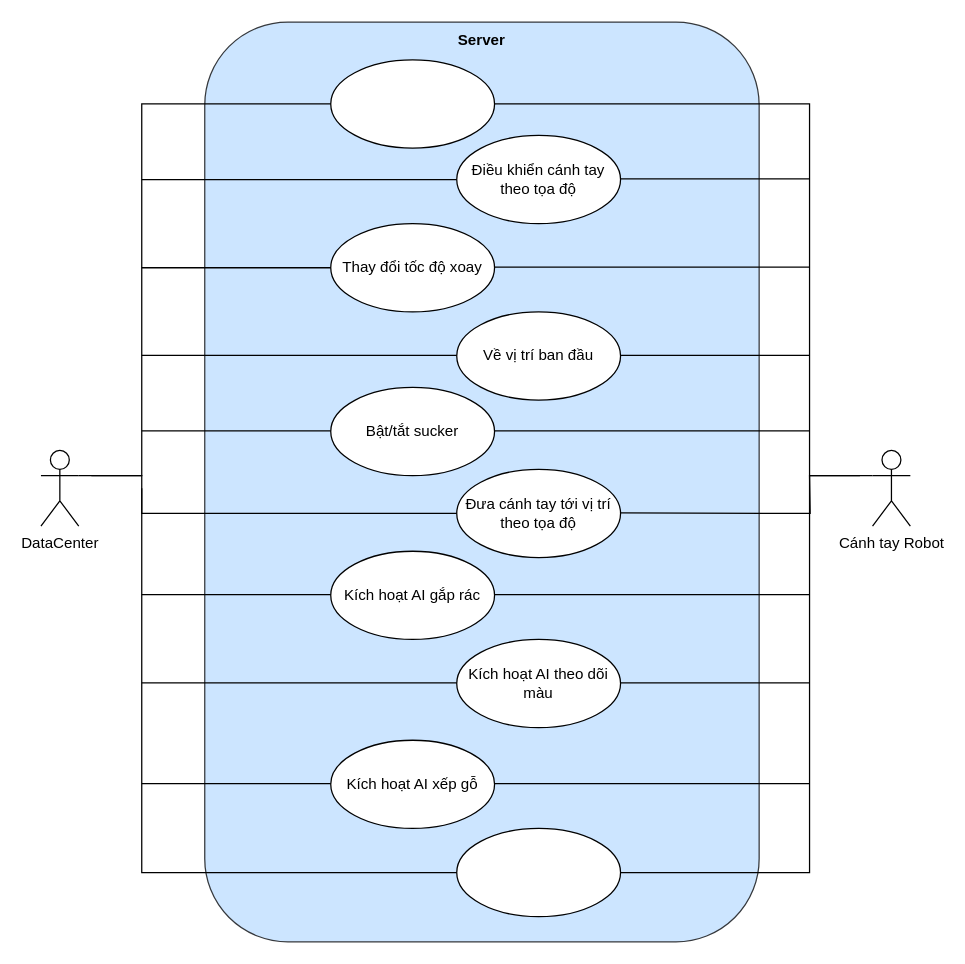
Some shapes in this 965 by 964 pixel diagram are drawn without their labels. The shapes that lost their labels are listed below. From the top down, each one's box as (x1, y1, x2, y2) in pixels, then its label:
(329, 59, 495, 148): Điều khiển cánh tay theo servo
(455, 827, 621, 917): Thu thập thông tin từ cánh tay
